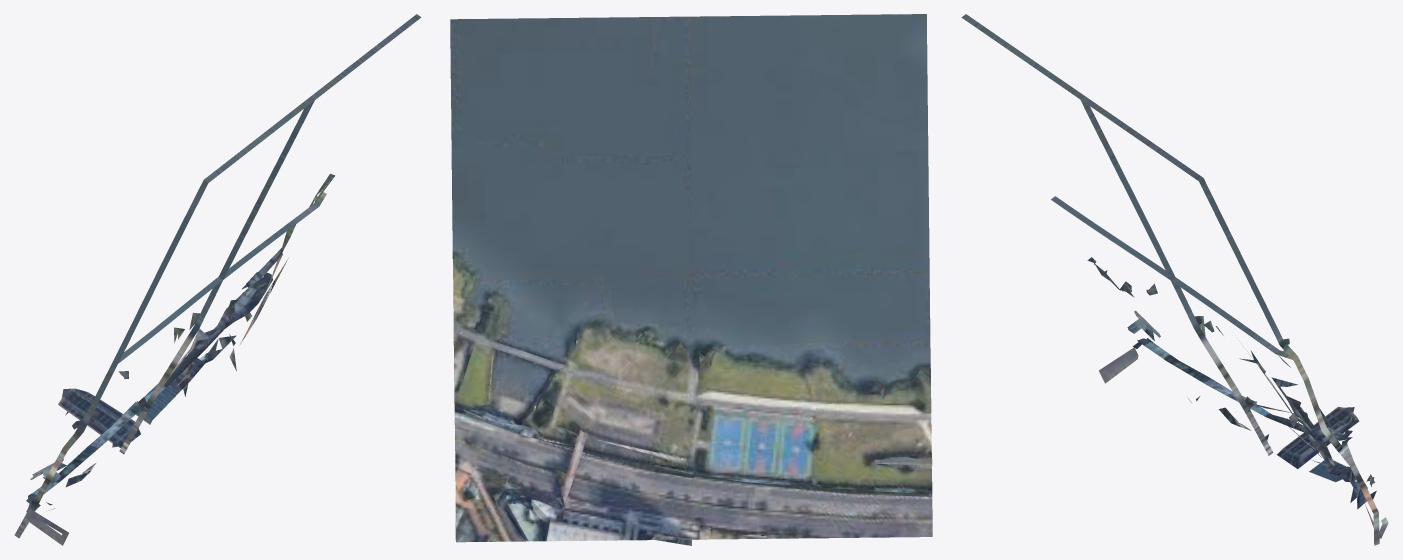
3 renders of one model, left to right at view 1: azimuth 30°, elevation 25°; view 2: azimuth 150°, elevation 25°; view 3: azimuth 270°, elevation 25°, orthographic. The views are drawn at different scales.
Bounding box in the file's own units: 308 × 278 × 261.
Materials: 1 (1 with a texture image).
